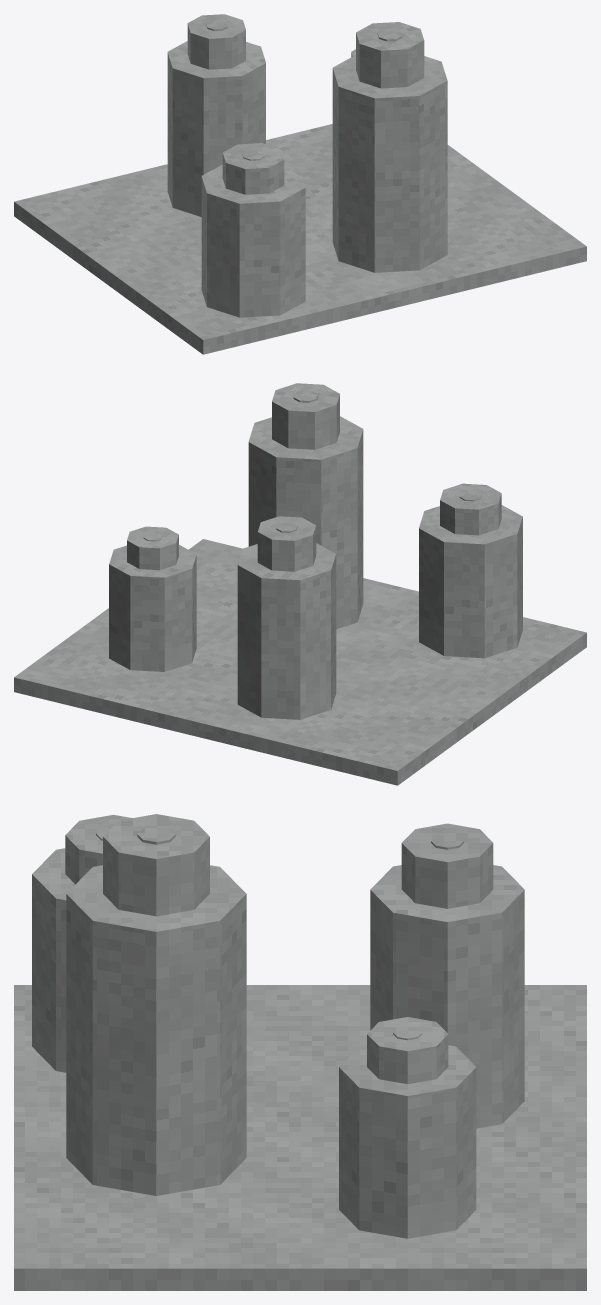
File: level_blockout_cavern_stalagmite_cluster.glb
3 renders of one model, top to bottom at view 1: azimuth 30°, elevation 25°; view 2: azimuth 150°, elevation 25°; view 3: azimuth 270°, elevation 25°, orthographic. The views are drawn at different scales.
Parts seen in each view (by area): view 1: level_blockout_cavern_stalagmite_cluster; view 2: level_blockout_cavern_stalagmite_cluster; view 3: level_blockout_cavern_stalagmite_cluster.
Boxes of the visible parts, <box> form: level_blockout_cavern_stalagmite_cluster: <box>14,14,586,354</box>; level_blockout_cavern_stalagmite_cluster: <box>14,383,586,785</box>; level_blockout_cavern_stalagmite_cluster: <box>14,814,586,1290</box>.
Bounding box in the file's own units: 2.19 × 1.25 × 1.87.
Materials: 1 (1 with a texture image).
